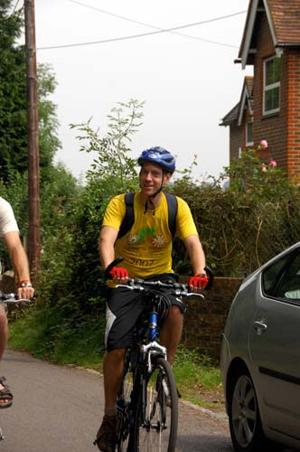person: (96, 148, 206, 452)
